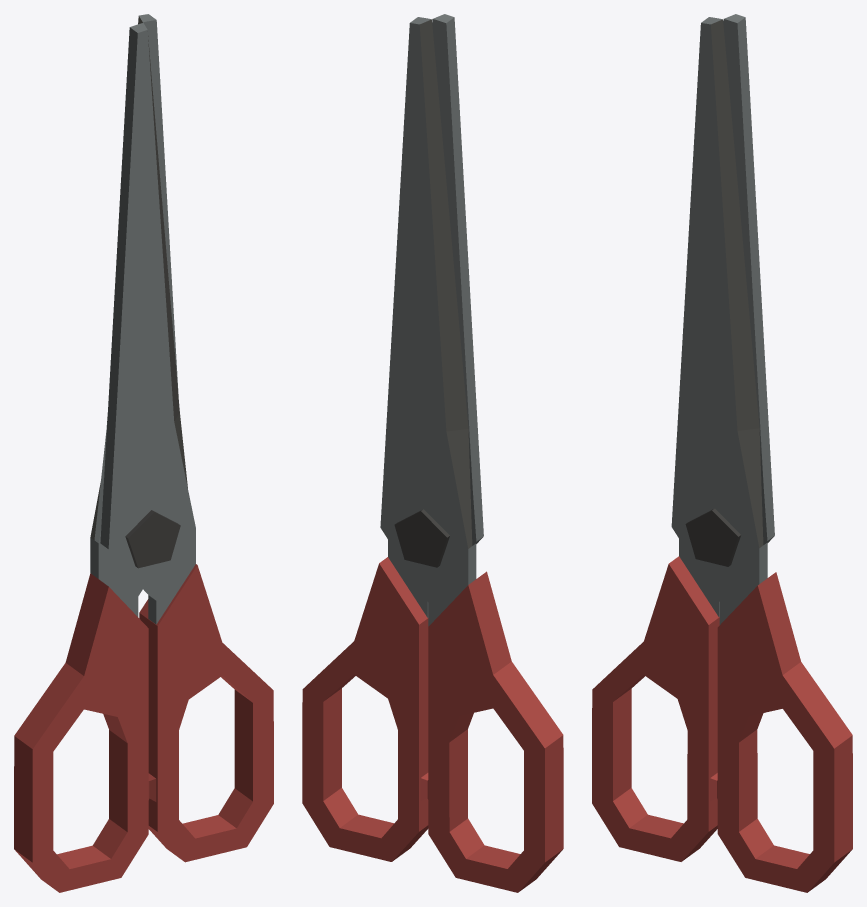
File: SM_Scissors_R.fbx
The picture shows the model from 3 angles, left to right: view 1: azimuth 30°, elevation 25°; view 2: azimuth 150°, elevation 25°; view 3: azimuth 330°, elevation 25°; orthographic projection.
Visible parts, largest first — view 1: SM_Scissors_R, SM_Scissors_L; view 2: SM_Scissors_L, SM_Scissors_R; view 3: SM_Scissors_R, SM_Scissors_L.
Boxes of the visible parts, x1,y1,x2,y2 form: SM_Scissors_R: (100,23,273,862); SM_Scissors_L: (14,14,178,892); SM_Scissors_L: (380,17,563,892); SM_Scissors_R: (302,14,483,861); SM_Scissors_R: (671,17,852,892); SM_Scissors_L: (592,14,774,861).
Size of the model in its own units: 11.45 by 38.07 by 1.85.
